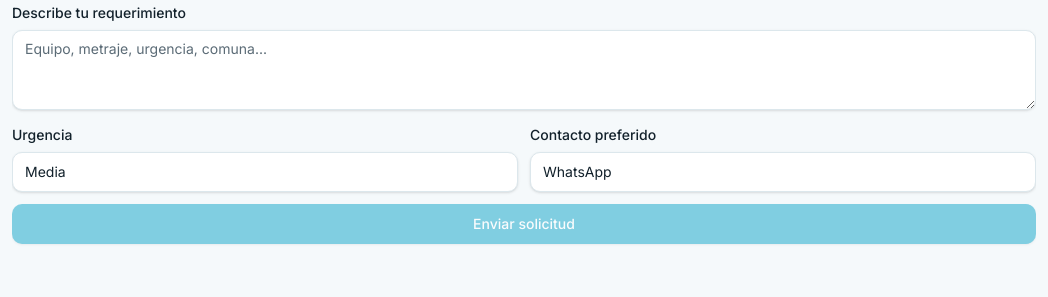
Scenario: LeadForm › muestra el mensaje de error cuando la API falla
This screenshot has width=1048, height=297.
Type "Necesito una mantencion programada" into the text box labelled "Describe tu requerimiento" at (524, 70), box 12,30 -> 1036,110
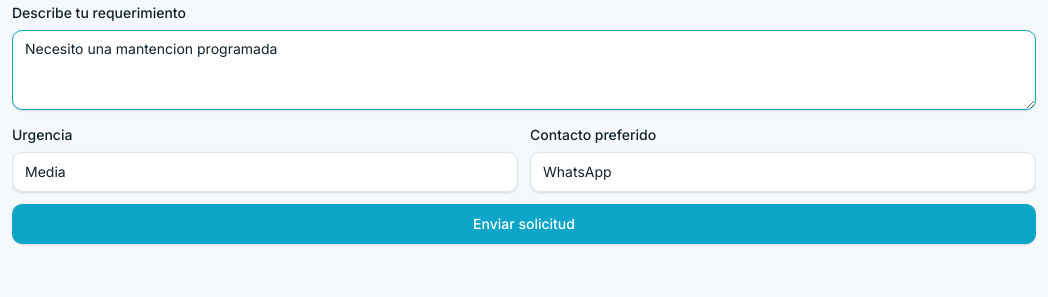
Click the button "Enviar solicitud" at (524, 224), box 12,204 -> 1036,244
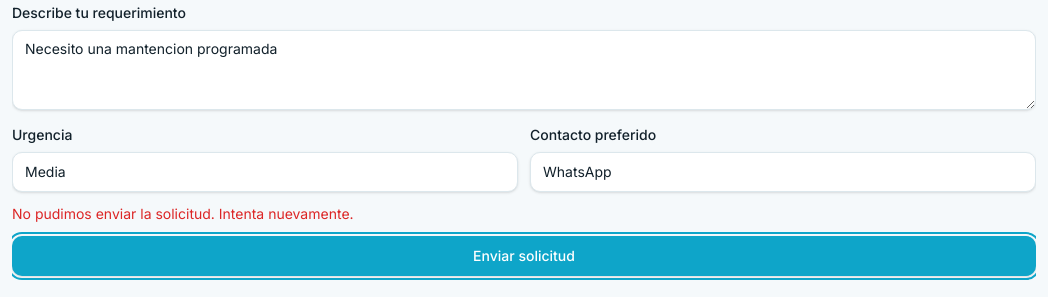
Expected: the text "No pudimos enviar la solicitud. Intenta nuevamente." is shown, 12,205 -> 354,222
